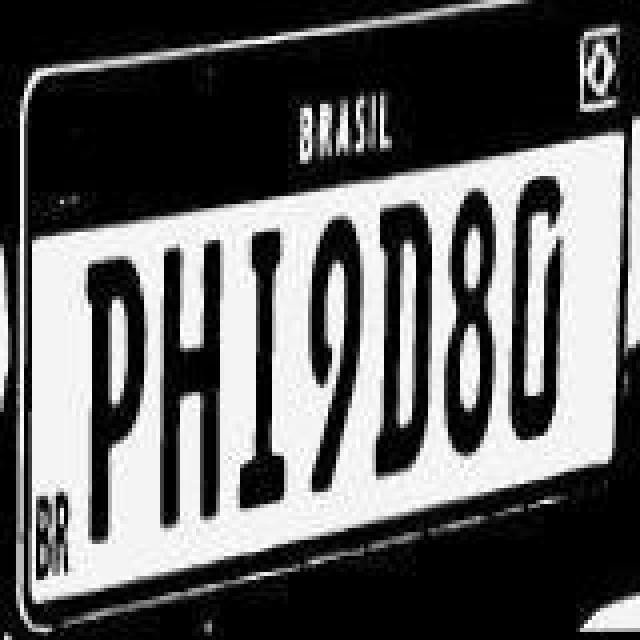8: (442, 184, 502, 460)
9: (300, 216, 372, 496)
D: (368, 198, 448, 474), (502, 180, 570, 448)
H: (154, 238, 230, 534)
I: (230, 228, 298, 516)
P: (76, 252, 148, 544)
